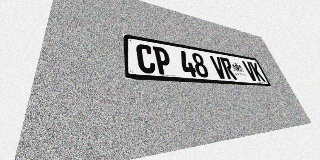4: (178, 50, 197, 77)
8: (191, 52, 210, 78)
C: (136, 43, 156, 74)
K: (249, 62, 266, 82)
P: (152, 46, 173, 75)
R: (219, 57, 237, 80)
V: (209, 55, 228, 79), (242, 61, 258, 81)
